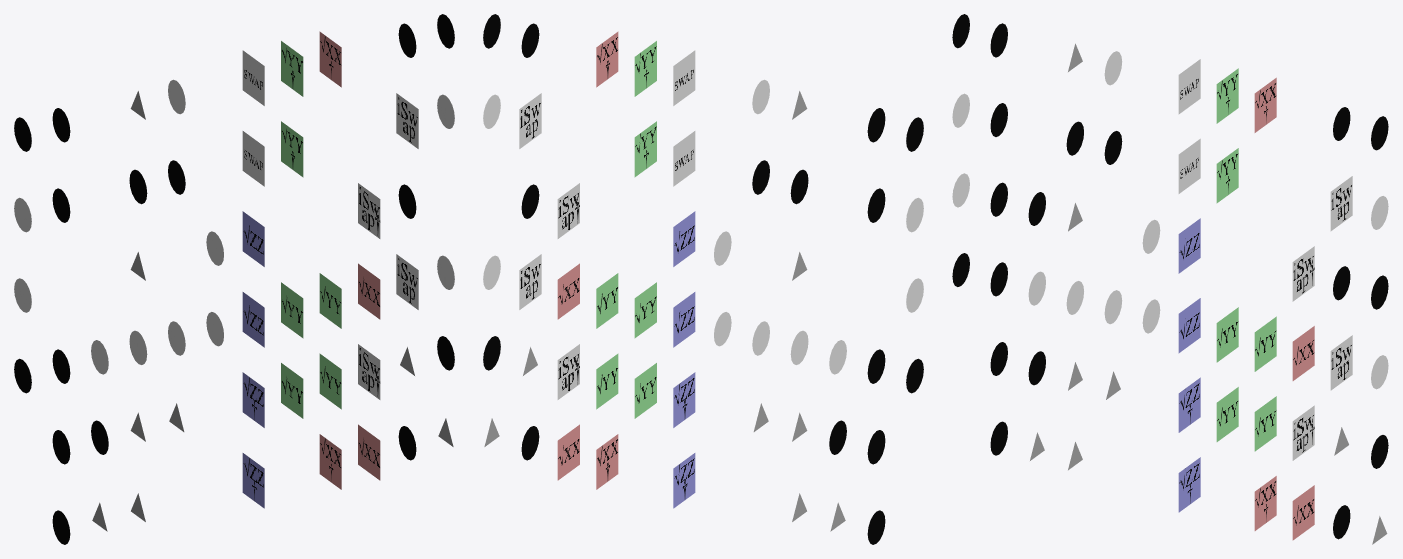
The model's file is two_qubits_gates.gltf.
3 views of the same model, side by side, from view 1: azimuth 30°, elevation 25°; view 2: azimuth 150°, elevation 25°; view 3: azimuth 330°, elevation 25° (orthographic).
Bounding box in the file's own units: 11 × 11 × 1.
Materials: 6 (1 with a texture image).
